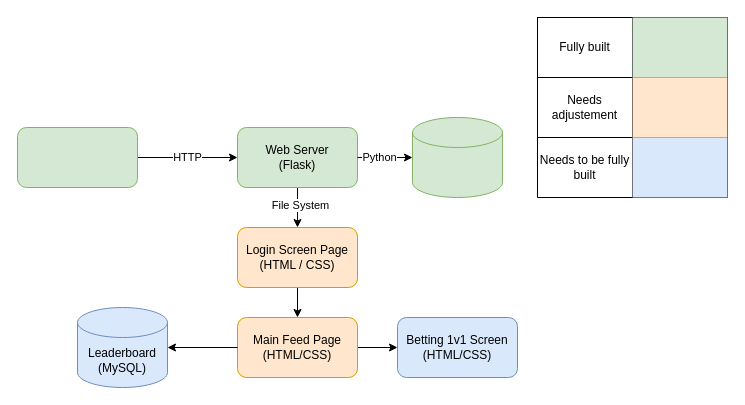
Some shapes in this 745 by 405 pixel diagram are drawn without their labels. The centre of each missing label's shape, as x and y in pixels:
"Local Database (TinyDB)" belongs at (x=457, y=157).
"User's Browser" belongs at (x=77, y=157).
